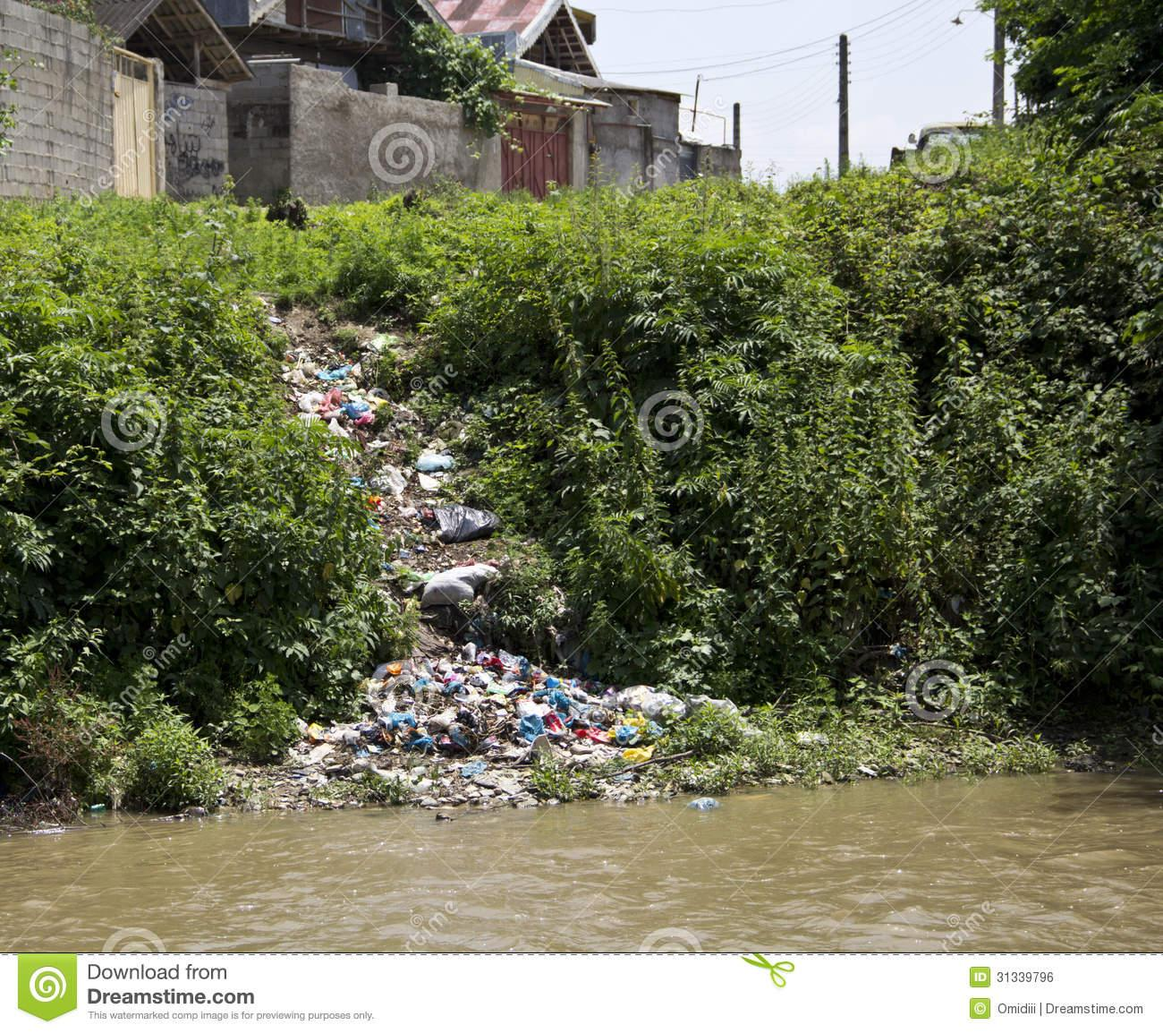garbage: (258, 287, 701, 826)
